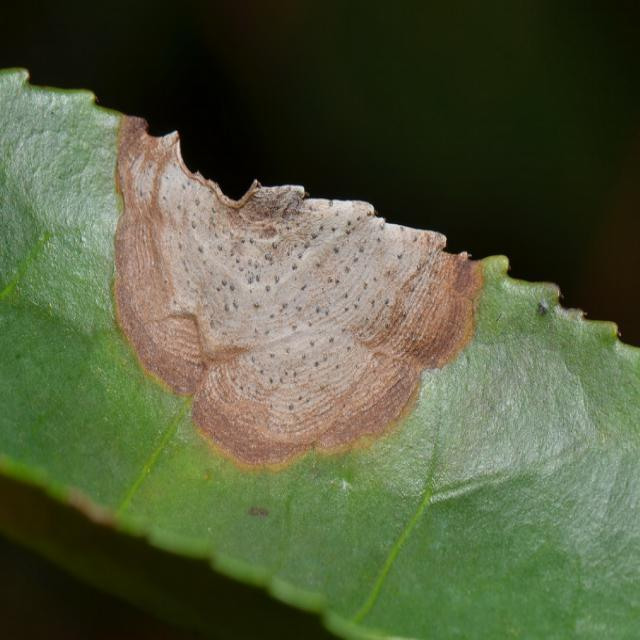Tea cloud leaf blight: (114, 109, 488, 465)
